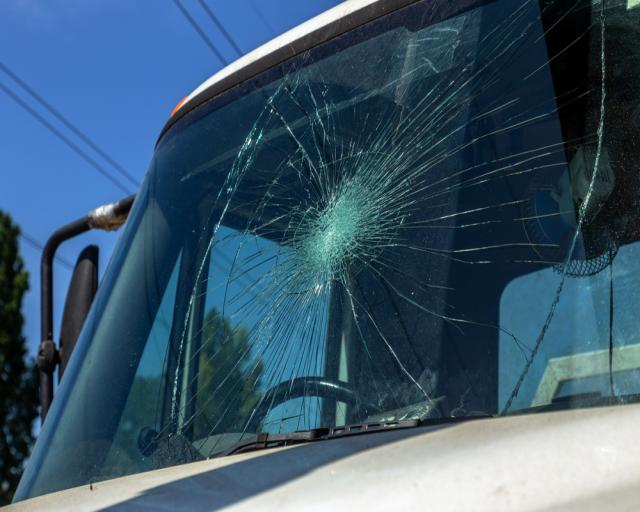glass shatter: (11, 0, 640, 503)
